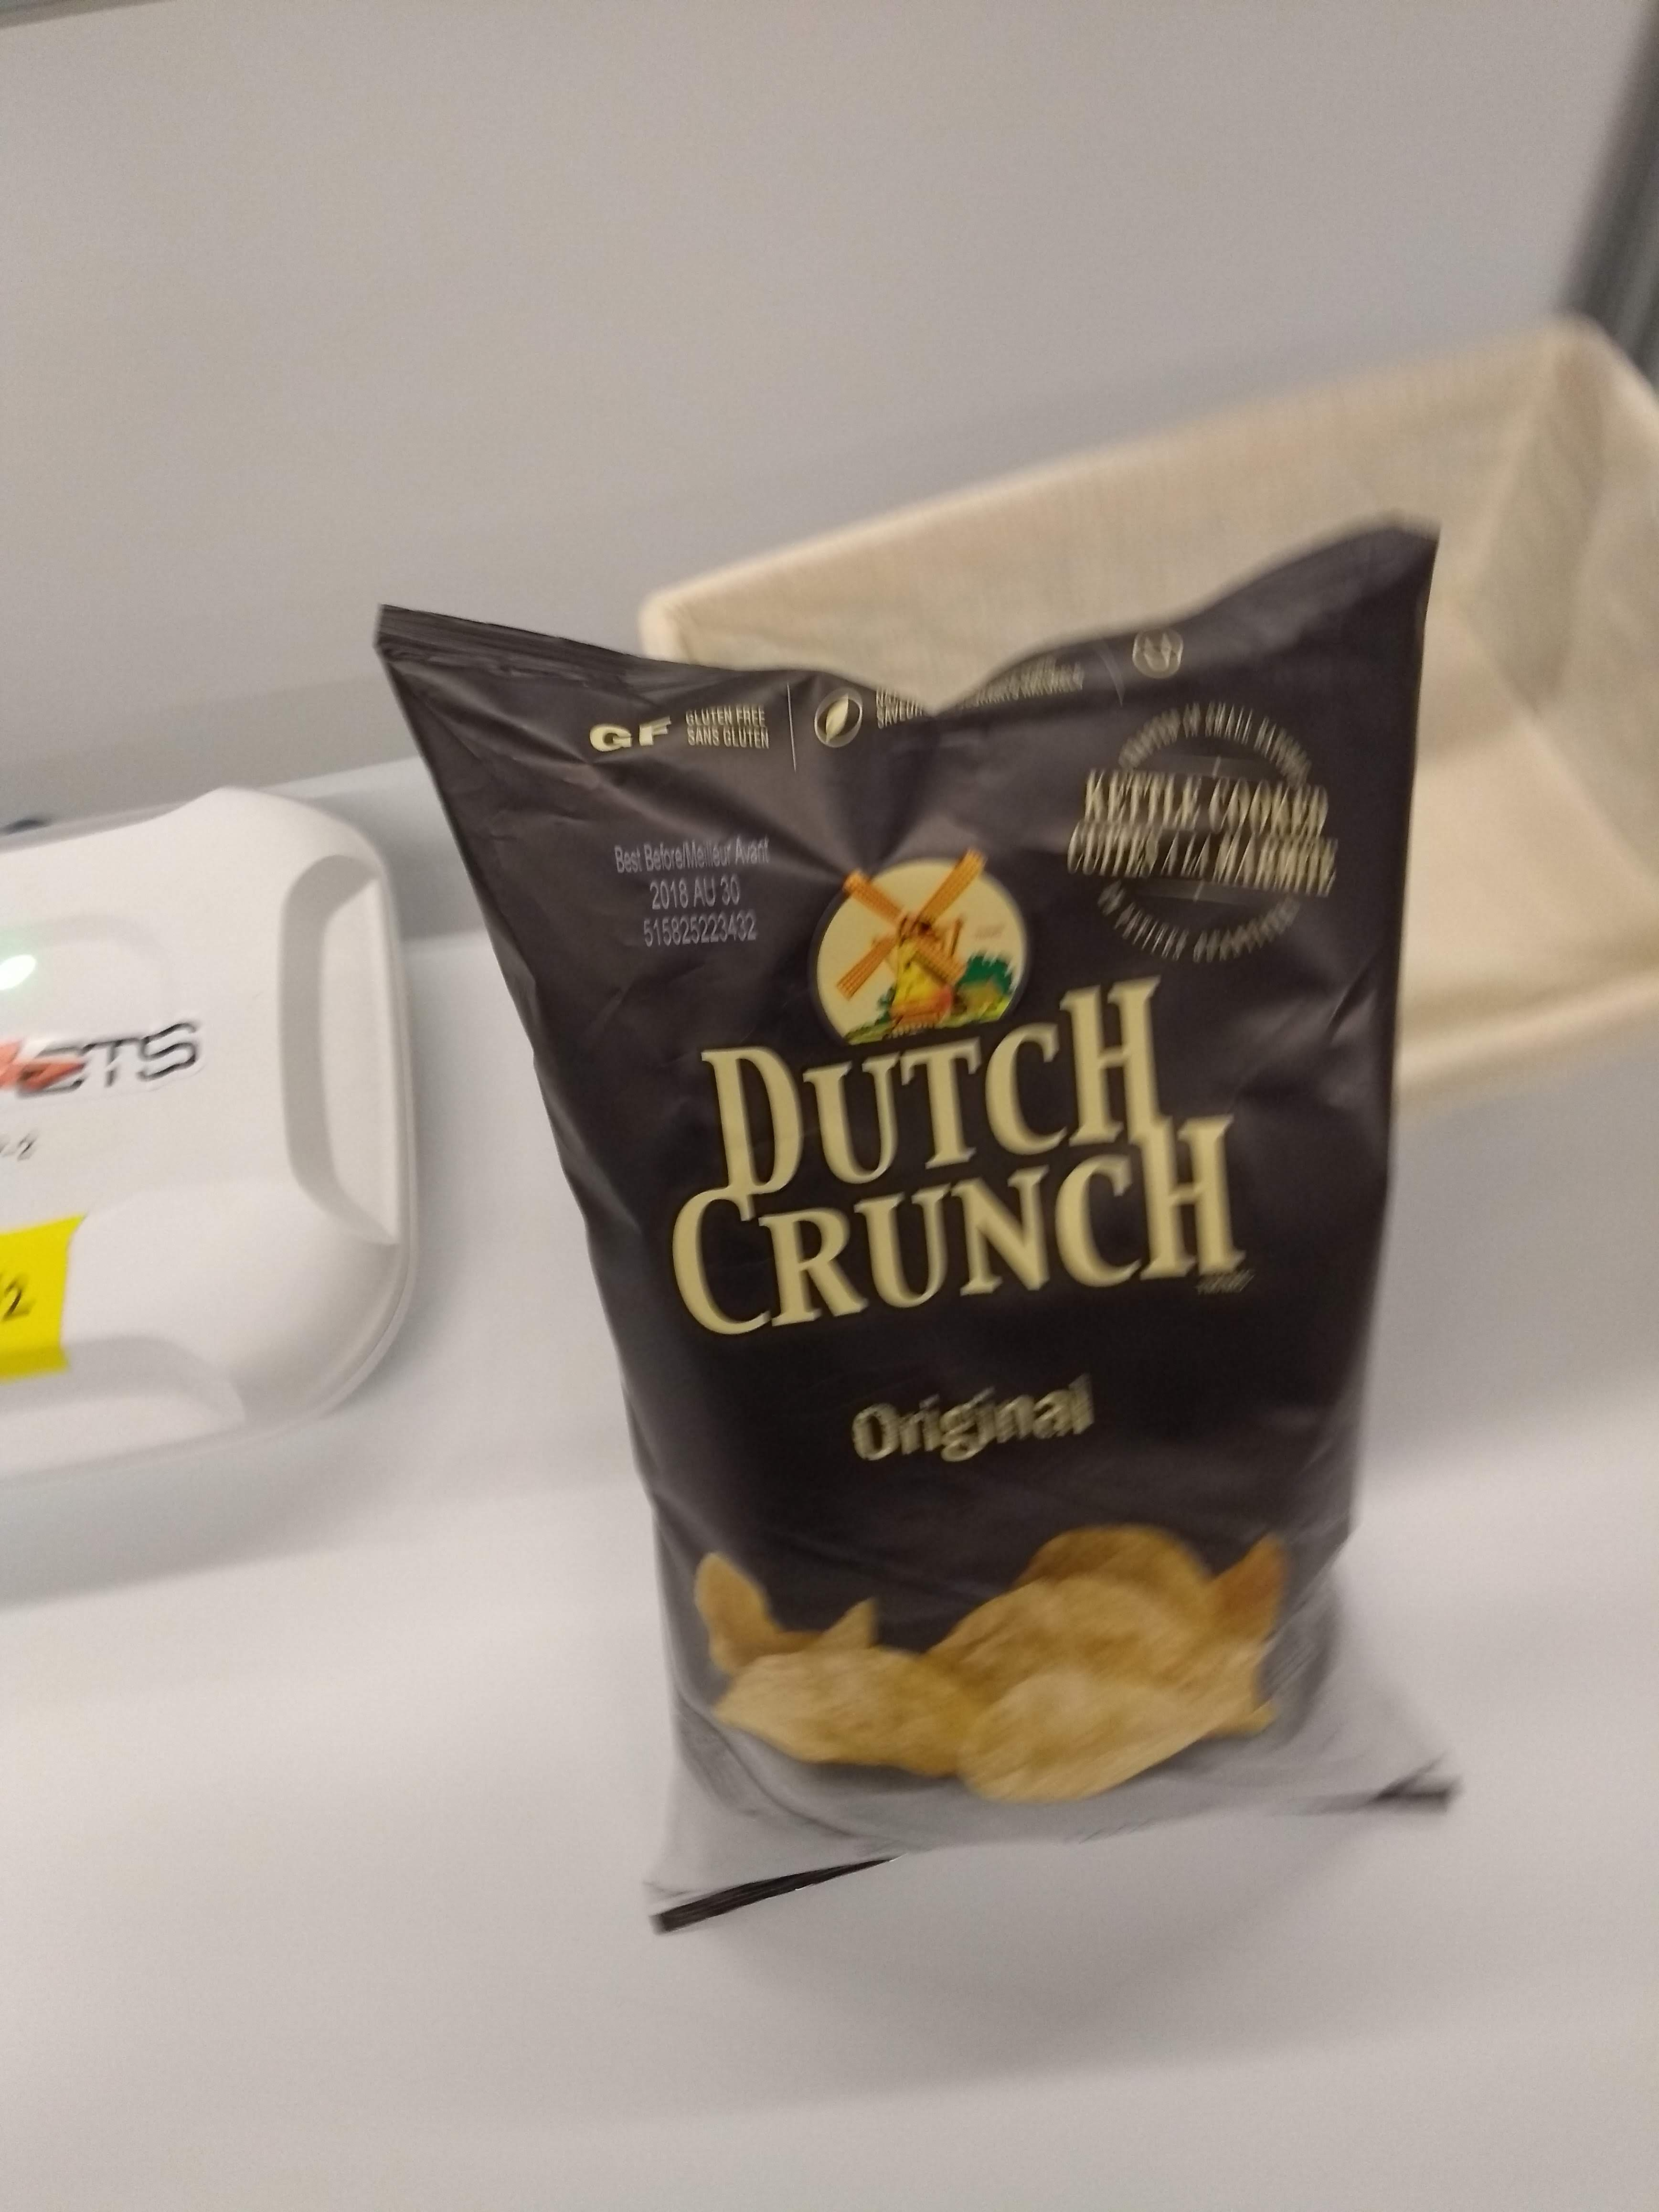potato_chips: (357, 500, 1497, 1940)
